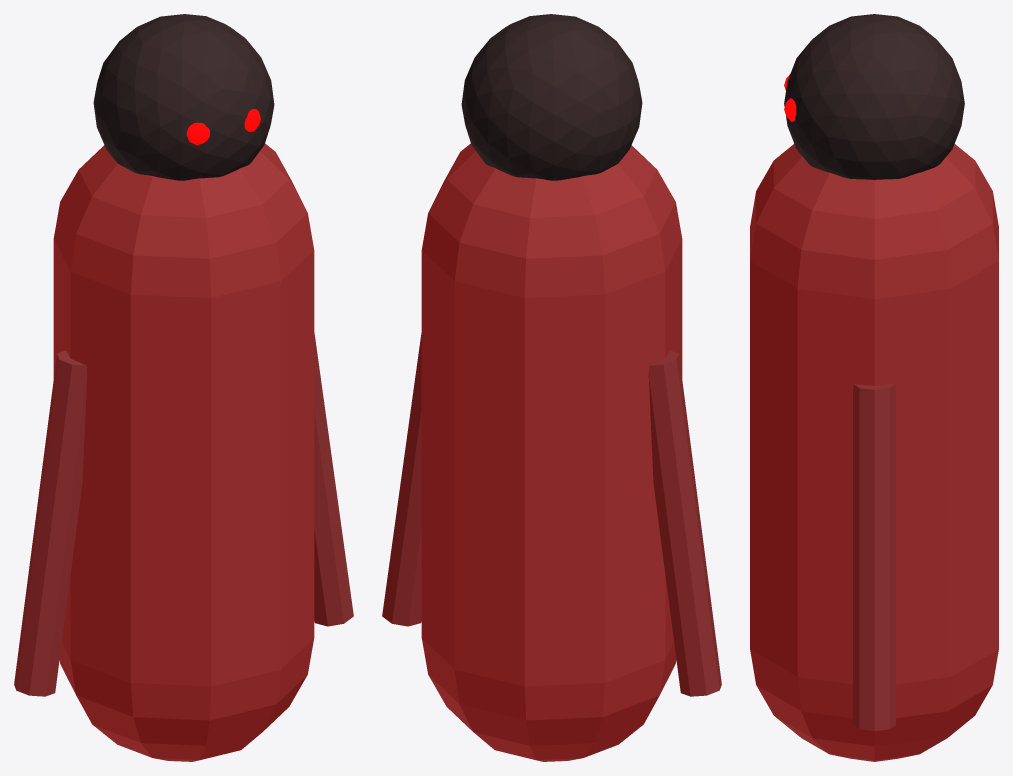
File: monster.glb
The picture shows the model from 3 angles, left to right: view 1: azimuth 30°, elevation 25°; view 2: azimuth 150°, elevation 25°; view 3: azimuth 270°, elevation 25°; orthographic projection.
Parts seen in each view (by area): view 1: body, head, arm_L, arm_R; view 2: body, head, arm_L, arm_R; view 3: body, head, arm_R.
Boxes of the visible parts, x1,y1,x2,y2 form: body: (53,143,314,761); head: (93,14,274,180); arm_L: (14,350,87,696); arm_R: (314,333,353,626); body: (421,143,682,761); head: (461,14,642,180); arm_L: (648,350,721,696); arm_R: (382,333,421,626); body: (750,144,998,761); head: (784,14,964,179); arm_R: (853,384,895,730).
Bounding box in the file's own units: 1.63 × 3.38 × 1.05.
